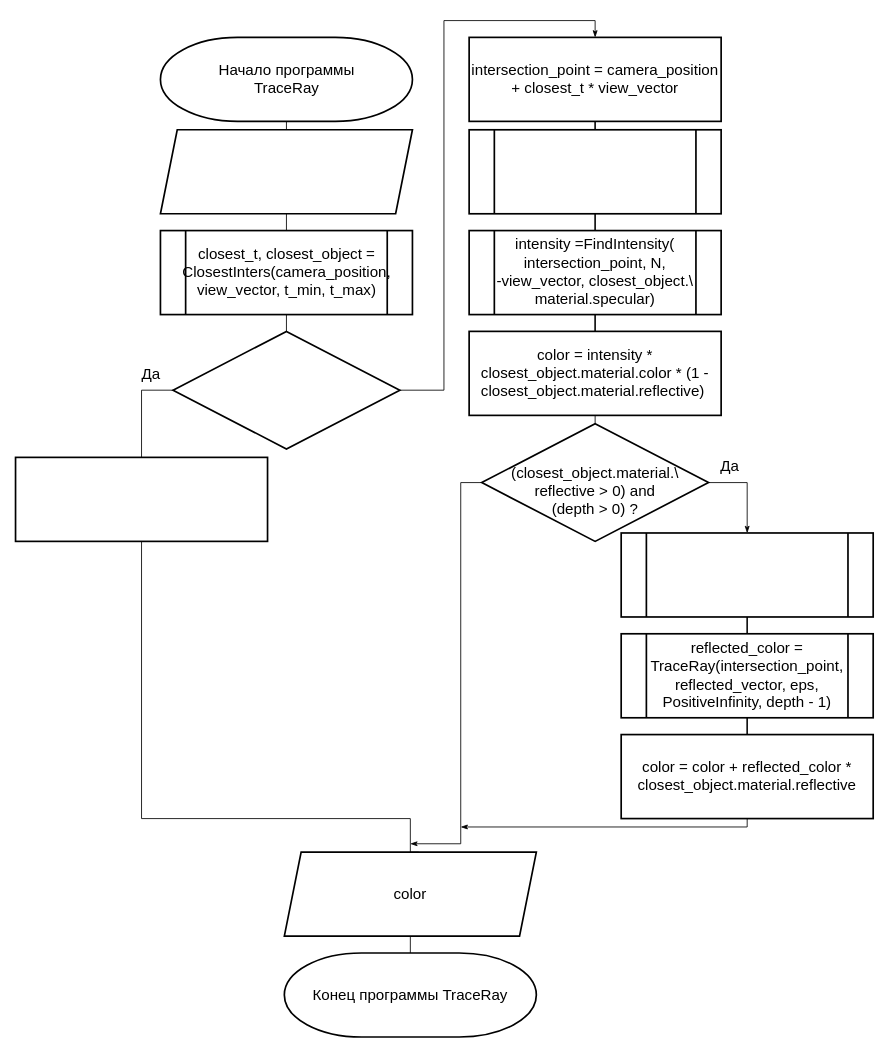
Image size: 888x1053. Some labels were removed from this diagram. Here are the shapes that lost their labels. From the top down, the centre of each, then its label:
At (x=286, y=171): "camera_position, view_vector, t_min, t_max, depth".
At (x=595, y=171): "N = closest_object.\ find_normal( intersection_point)".
At (x=286, y=389): "closest_object = Null?".
At (x=141, y=499): "color = background_color".
At (x=747, y=574): "reflected_vector = ReflectRay(-view_vector, N)".
